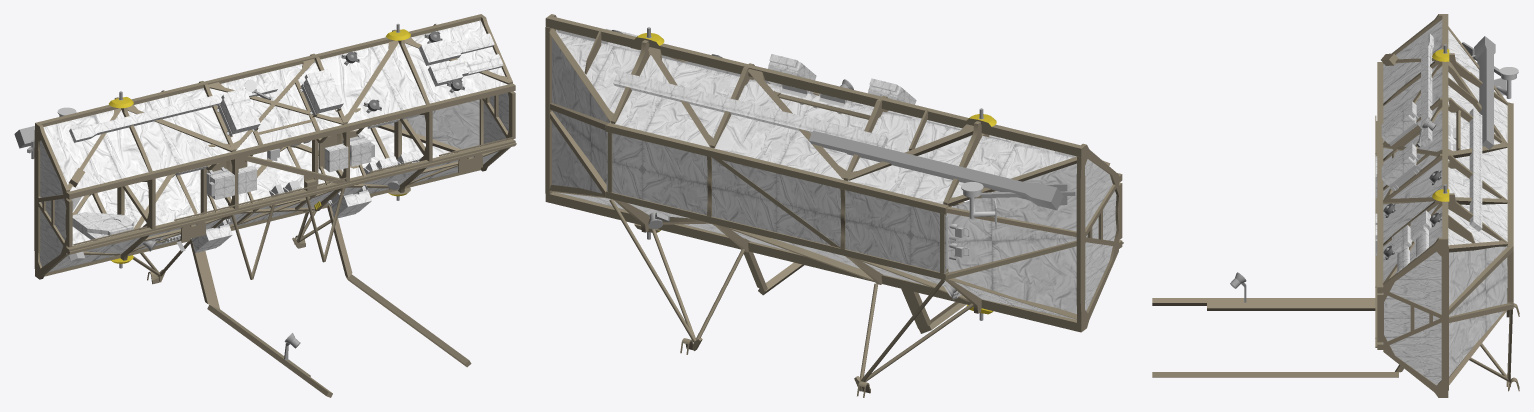
3 views of the same model, side by side, from view 1: azimuth 30°, elevation 25°; view 2: azimuth 150°, elevation 25°; view 3: azimuth 270°, elevation 25° (orthographic). The views are drawn at different scales.
Visible parts, largest first — view 1: S0; view 2: S0; view 3: S0.
Boxes of the visible parts, x1,y1,x2,y2 form: S0: (14,14,516,397); S0: (545,14,1123,397); S0: (1152,14,1519,397).
Bounding box in the file's own units: 13.24 × 6.48 × 9.1.
8 materials, 2 textured.
